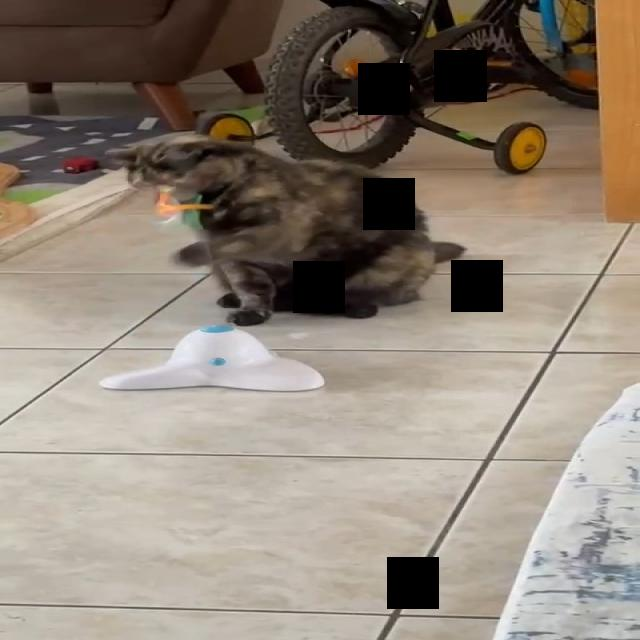authorized: (104, 131, 467, 326)
